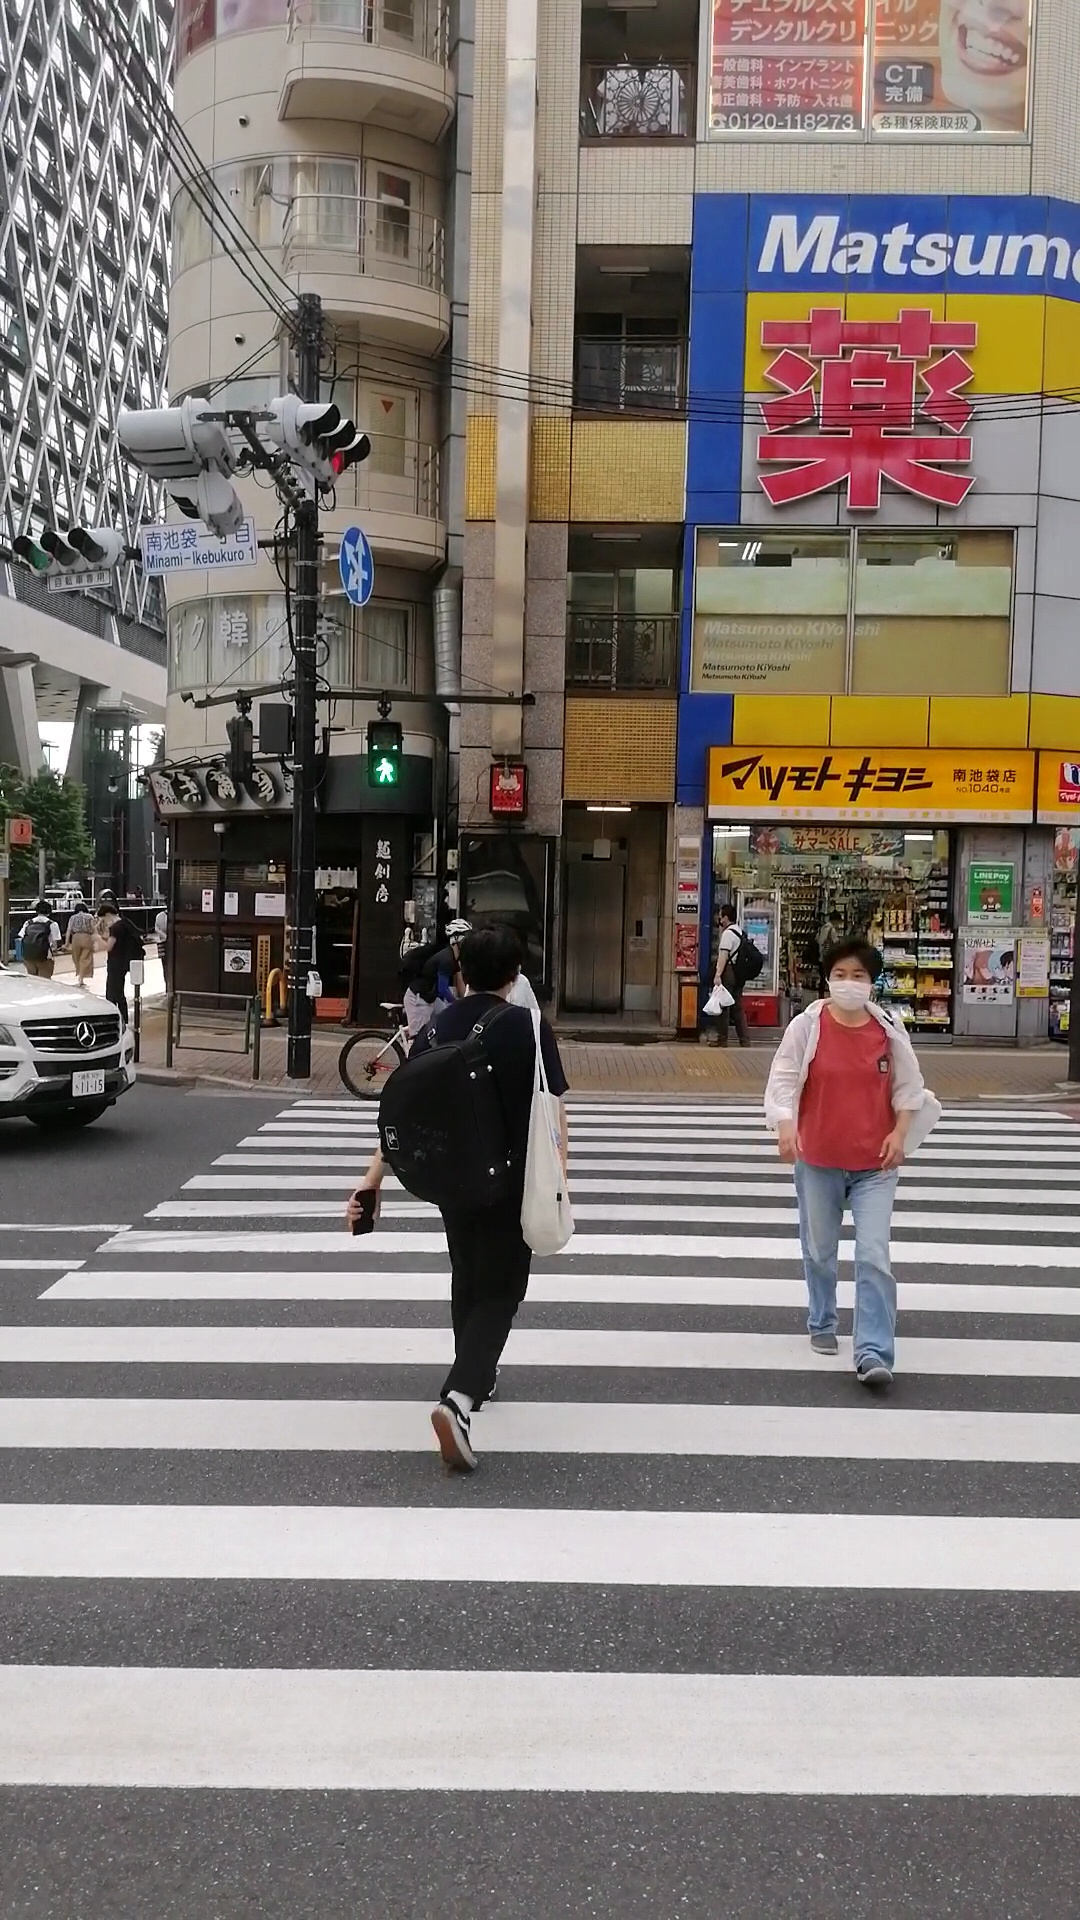green: (367, 720, 404, 789)
